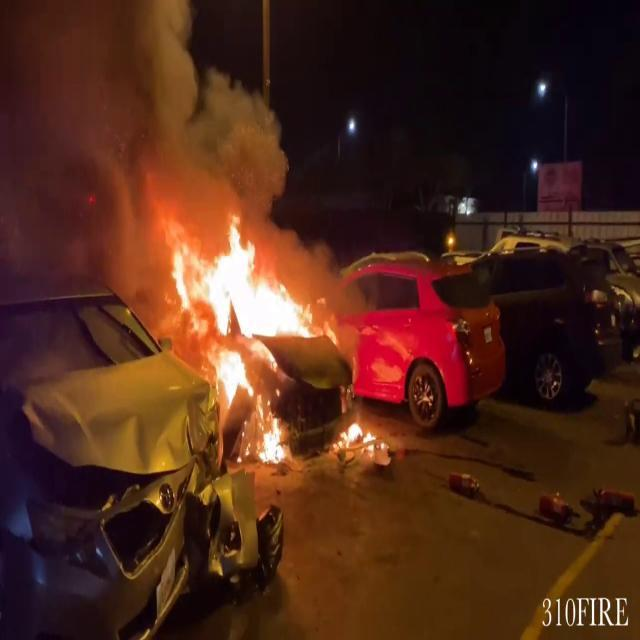Fire: (158, 214, 322, 460), (333, 412, 385, 457)
Smoke: (0, 0, 224, 286)
